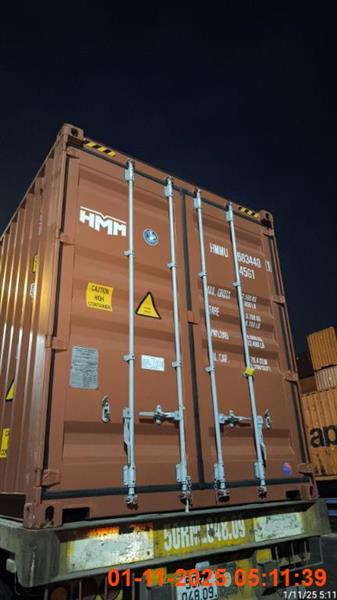broken: (0, 124, 331, 598)
